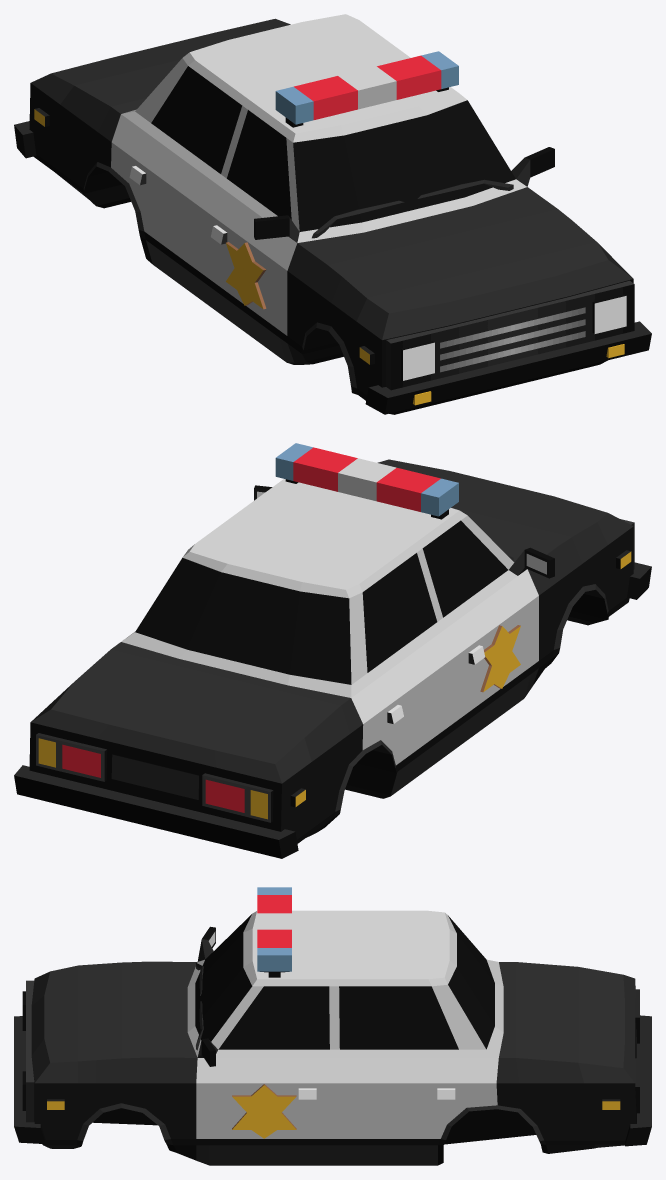
Rendered from PoliceCar.fbx.
The picture shows the model from 3 angles, top to bottom: view 1: azimuth 30°, elevation 25°; view 2: azimuth 150°, elevation 25°; view 3: azimuth 270°, elevation 25°; orthographic projection. The views are drawn at different scales.
Parts seen in each view (by area): view 1: PoliceCar; view 2: PoliceCar; view 3: PoliceCar.
Part boxes in pixels (bbox=[...]): PoliceCar: bbox=[14, 14, 651, 414]; PoliceCar: bbox=[14, 443, 651, 858]; PoliceCar: bbox=[14, 887, 651, 1165].
Bounding box in the file's own units: 1.75 × 1.29 × 3.78.
